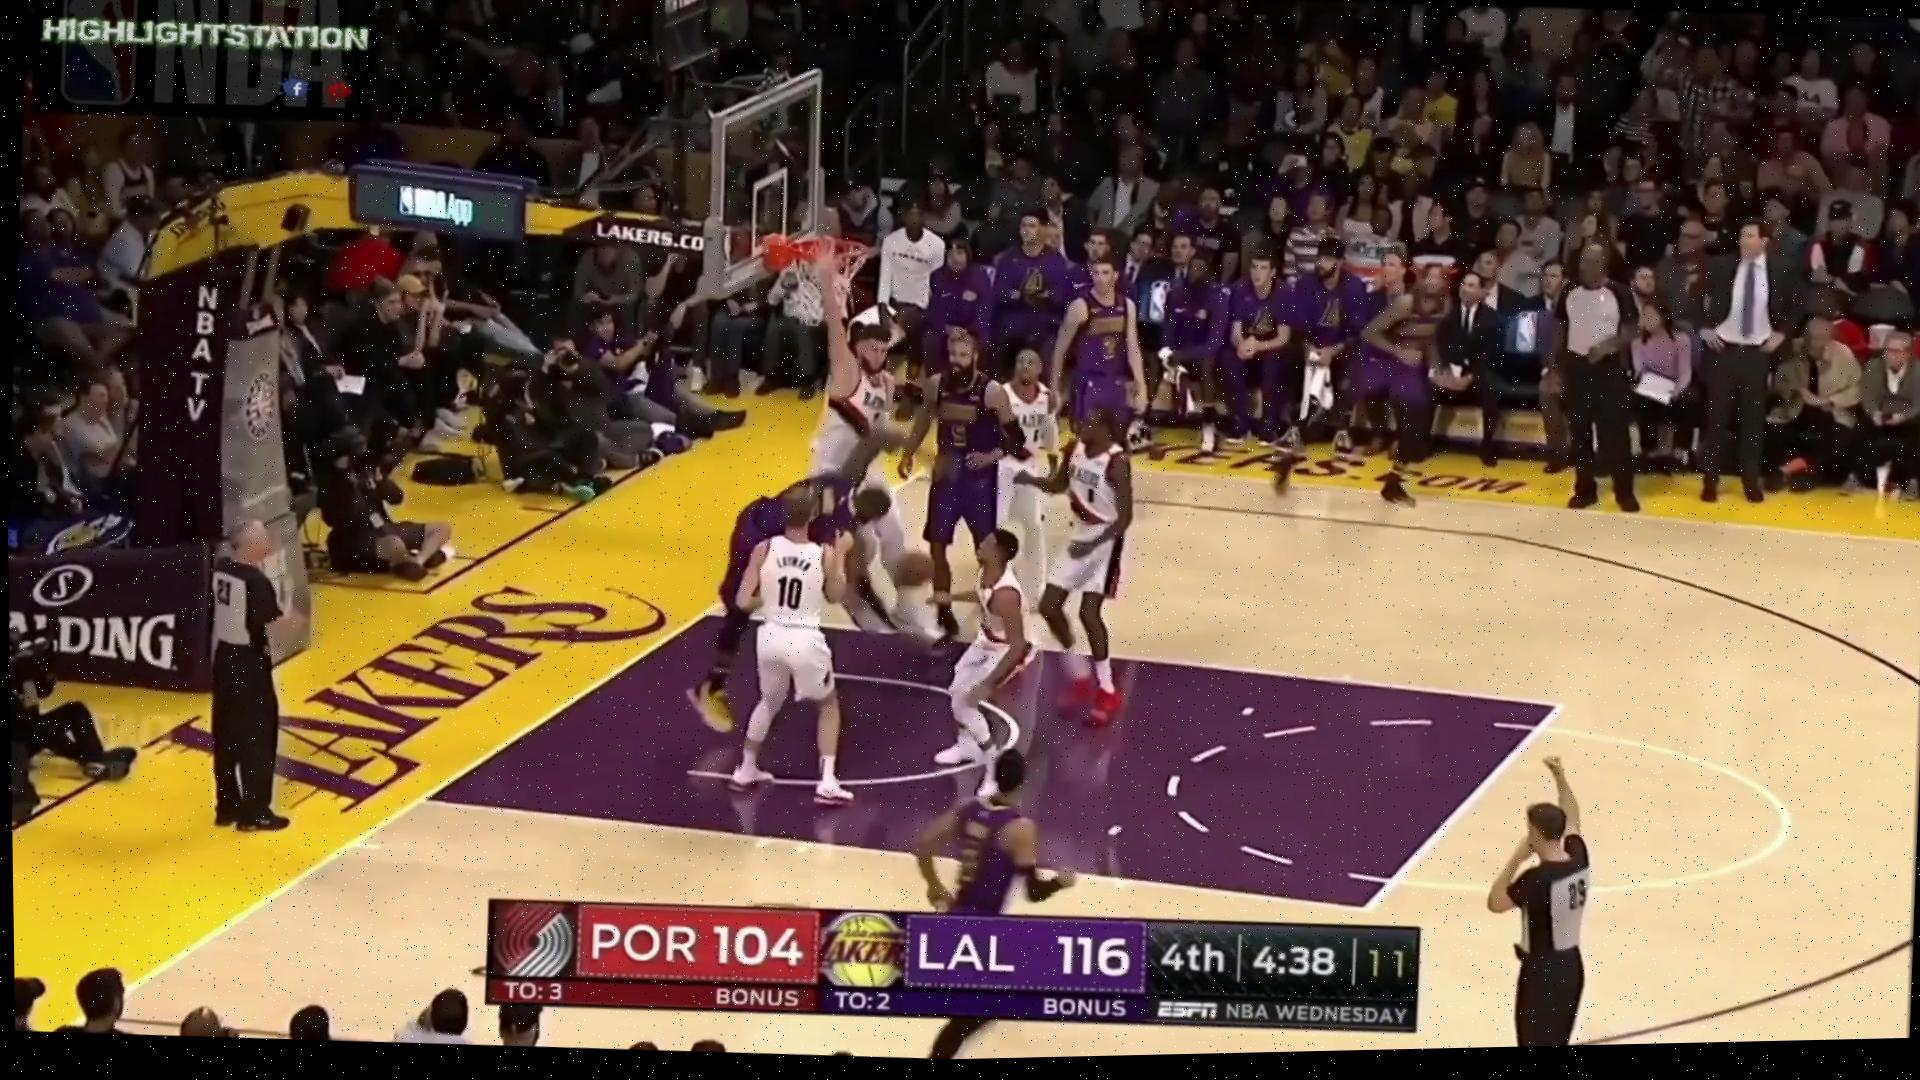no_foul: (670, 435, 934, 815)
